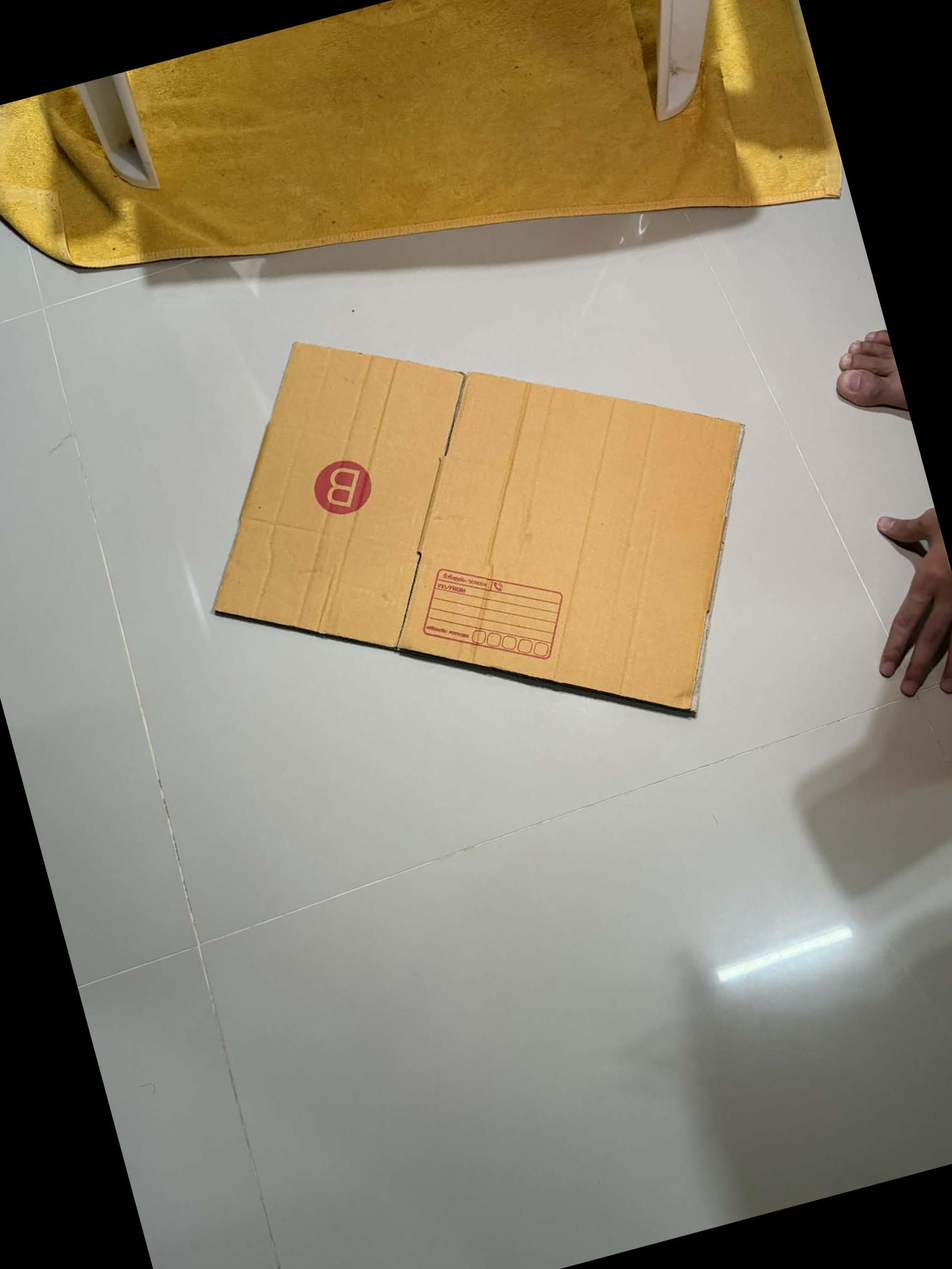box: (401, 541, 581, 691), (298, 448, 389, 528)
class0: (137, 223, 827, 851)
